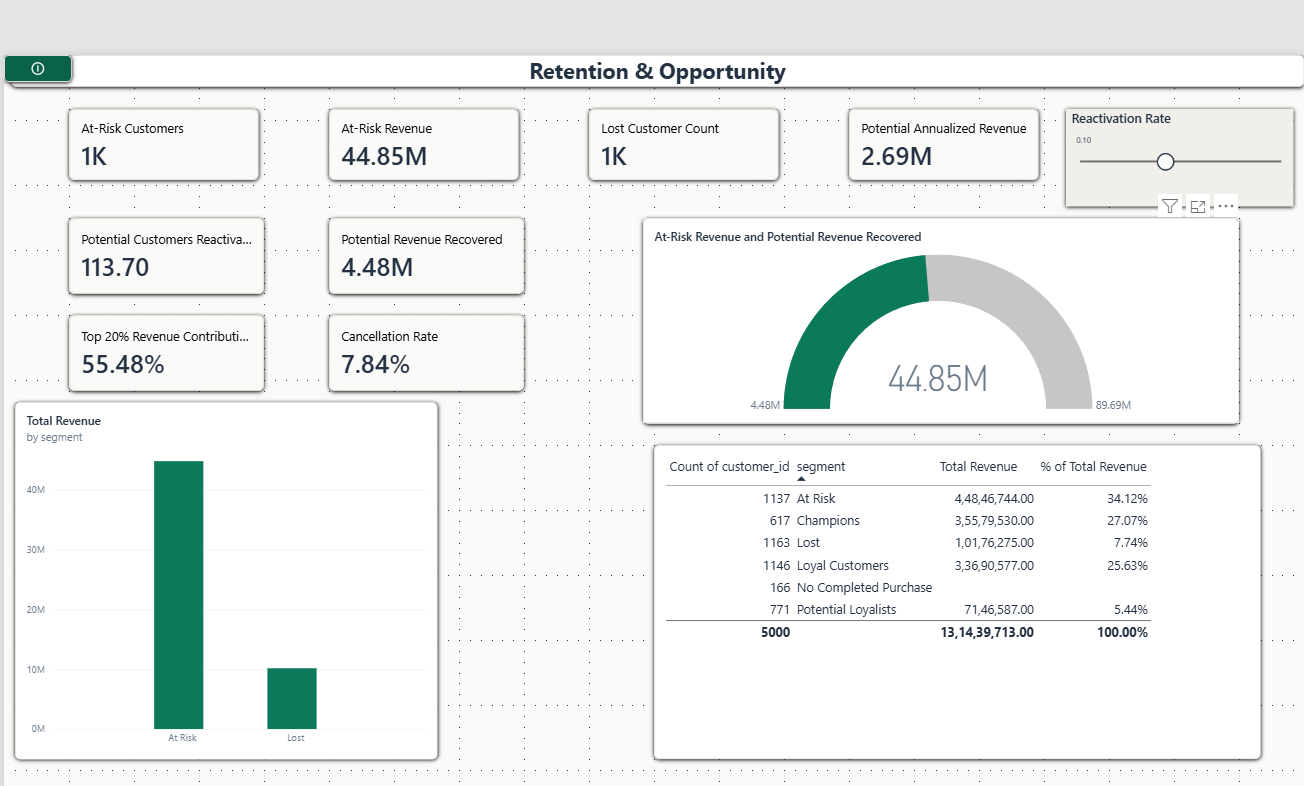

What the dashboard file says about the page in this screenshot:
{"tool":"powerbi","page":{"name":"Retention & Opportunity","canvas":[1920,1080],"ordinal":2},"visuals":[{"type":"textbox","box":[10.3,0,1909.7,47.3],"z":0},{"type":"cardVisual","fields":{"Data":["_Measure.At_Risk_customer_count"]},"box":[96,80,280.4,105.1],"z":1},{"type":"cardVisual","fields":{"Data":["_Measure.At-Risk Revenue"]},"box":[480,80,280.4,105.1],"z":2},{"type":"cardVisual","fields":{"Data":["_Measure.Lost Customer Count"]},"box":[864,80,280.4,105.1],"z":3},{"type":"slicer","fields":{"Values":["Reactivation Rate.Reactivation Rate"]},"box":[1568,80,336,144],"z":5},{"type":"columnChart","fields":{"Category":["customer_360_final.segment"],"Y":["_Measure.Total Revenue"]},"box":[16,512,624,528],"z":6},{"type":"cardVisual","fields":{"Data":["_Measure.Potential Customers Reactivated"]},"box":[96,240,288,112],"z":7},{"type":"cardVisual","fields":{"Data":["_Measure.Potential Revenue Recovered"]},"box":[480,240,288,112],"z":8},{"type":"cardVisual","fields":{"Data":["_Measure.Potential Annualized Revenue"]},"box":[1248,80,280.4,105.1],"z":9},{"type":"gauge","fields":{"Y":["_Measure.At-Risk Revenue"],"MinValue":["_Measure.Potential Revenue Recovered"]},"box":[944,240,880,304],"z":10},{"type":"tableEx","fields":{"Values":["customer_360_final.customer_id","customer_360_final.segment","_Measure.Total Revenue","_Measure.% of Total Revenue"]},"box":[960,576,896,464],"z":11},{"type":"cardVisual","fields":{"Data":["_Measure.Top 20% Revenue Contribution"]},"box":[96,384,288,112],"z":12},{"type":"cardVisual","fields":{"Data":["_Measure.Cancellation Rate"]},"box":[480,384,288,112],"z":13},{"type":"actionButton","box":[0,0,100,40],"z":14}]}

Visuals, with their boxes on the page's 1920x1080 design canvas (x1, y1, x2, y2). These are canvas units, not pixel positions in the 1304x786 screenshot, which may show the page scaled, cropped or inside an application window:
textbox: detection(10, 0, 1920, 47)
cardVisual - _Measure.At_Risk_customer_count: detection(96, 80, 376, 185)
cardVisual - _Measure.At-Risk Revenue: detection(480, 80, 760, 185)
cardVisual - _Measure.Lost Customer Count: detection(864, 80, 1144, 185)
slicer - Reactivation Rate.Reactivation Rate: detection(1568, 80, 1904, 224)
columnChart - customer_360_final.segment x _Measure.Total Revenue: detection(16, 512, 640, 1040)
cardVisual - _Measure.Potential Customers Reactivated: detection(96, 240, 384, 352)
cardVisual - _Measure.Potential Revenue Recovered: detection(480, 240, 768, 352)
cardVisual - _Measure.Potential Annualized Revenue: detection(1248, 80, 1528, 185)
gauge - _Measure.At-Risk Revenue x _Measure.Potential Revenue Recovered: detection(944, 240, 1824, 544)
tableEx - customer_360_final.customer_id x customer_360_final.segment: detection(960, 576, 1856, 1040)
cardVisual - _Measure.Top 20% Revenue Contribution: detection(96, 384, 384, 496)
cardVisual - _Measure.Cancellation Rate: detection(480, 384, 768, 496)
actionButton: detection(0, 0, 100, 40)
